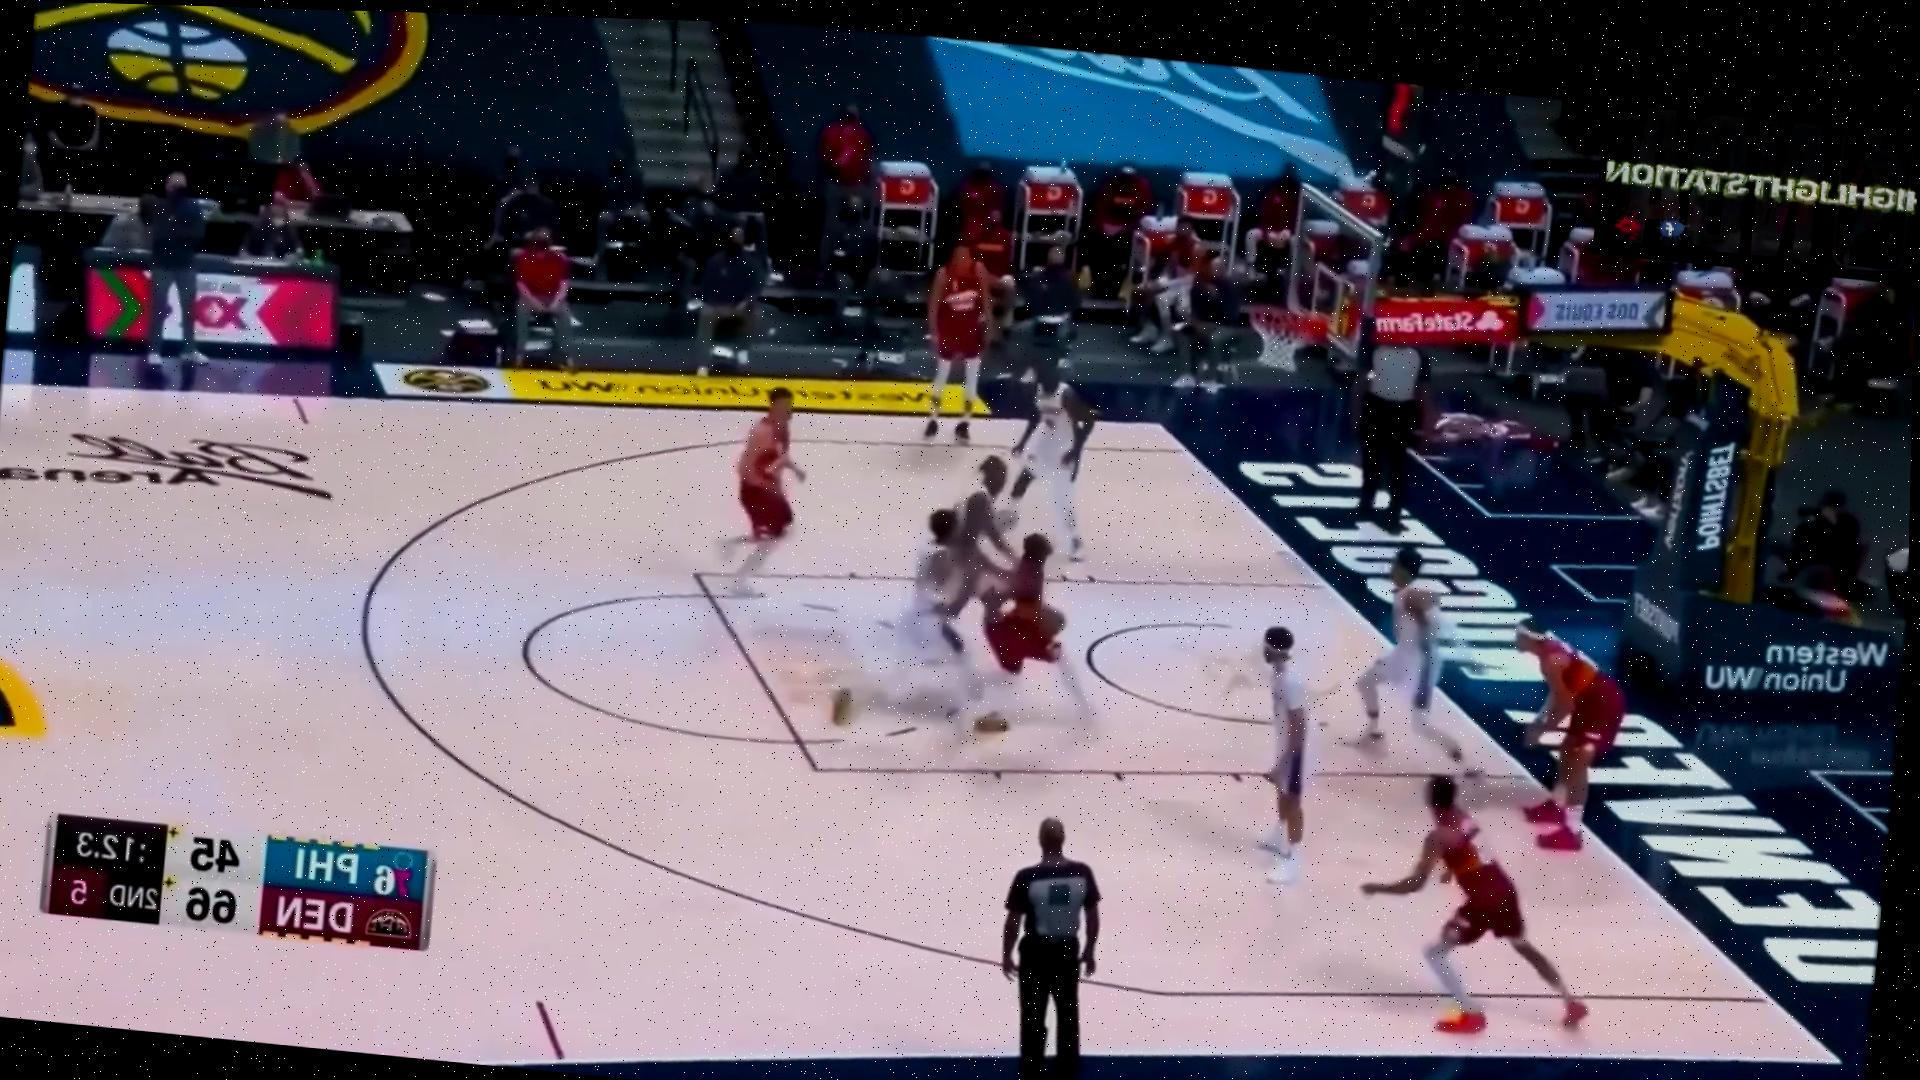no_foul: (819, 491, 1108, 762)
